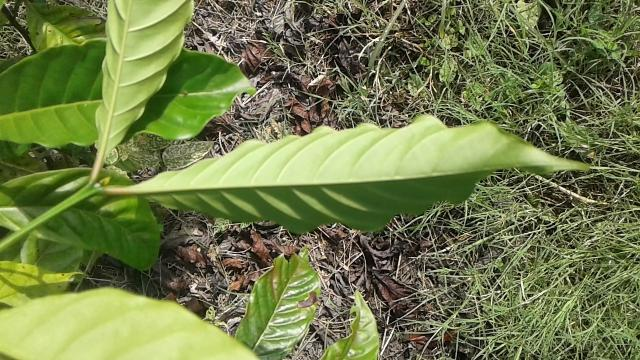healthy: (110, 114, 589, 236)
